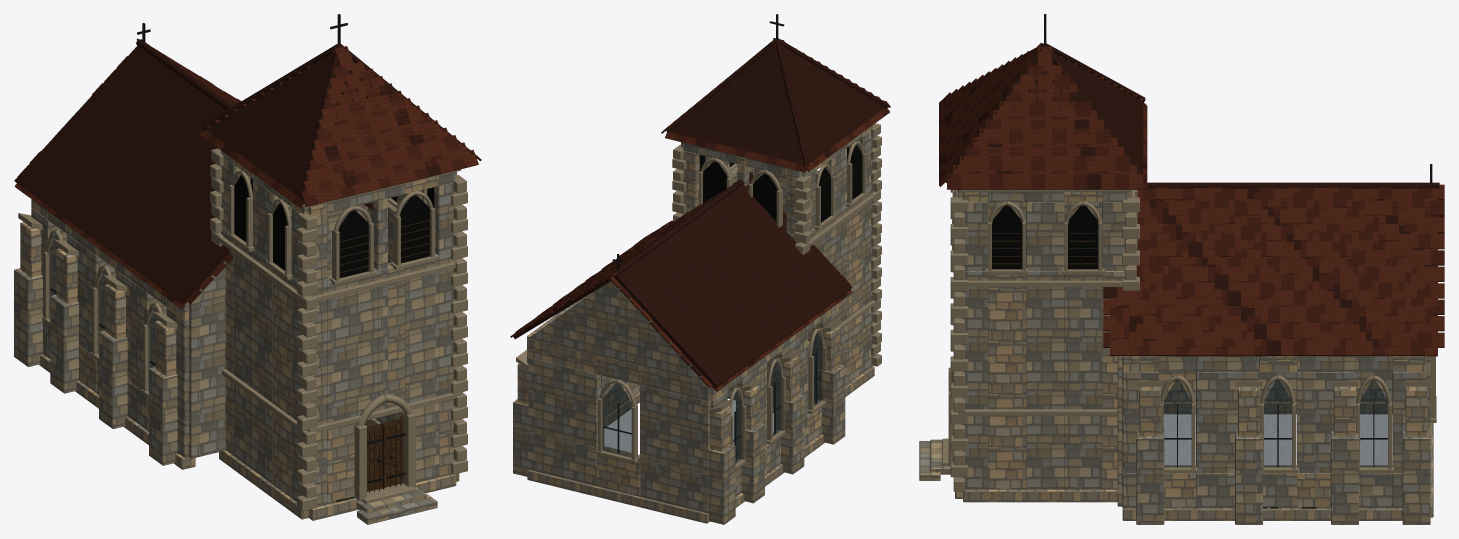
Rendered from medieval_village_church_3d_runtime.glb.
The picture shows the model from 3 angles, left to right: view 1: azimuth 30°, elevation 25°; view 2: azimuth 150°, elevation 25°; view 3: azimuth 270°, elevation 25°; orthographic projection. The views are drawn at different scales.
Parts seen in each view (by area): view 1: RUNTIME_BATCH_017_MAT_CHURCH_TERRACOTTA_WEATHERED, RUNTIME_BATCH_003_MAT_CHURCH_STONE_DARK, RUNTIME_BATCH_001_MAT_CHURCH_STONE_DARK, RUNTIME_BATCH_018_MAT_CHURCH_TERRACOTTA_A, RUNTIME_BATCH_006_MAT_CHURCH_DRESSED_LIMESTONE, RUNTIME_BATCH_008_MAT_CHURCH_STONE_DARK, RUNTIME_BATCH_000_MAT_CHURCH_STONE_WARM, RUNTIME_BATCH_004_MAT_CHURCH_STONE_WARM, RUNTIME_BATCH_007_MAT_CHURCH_DRESSED_LIMESTONE, RUNTIME_BATCH_019_MAT_CHURCH_TERRACOTTA_B, RUNTIME_BATCH_002_MAT_CHURCH_STONE_WARM, RUNTIME_BATCH_015_MAT_CHURCH_DRESSED_LIMESTONE (+10 smaller); view 2: RUNTIME_BATCH_017_MAT_CHURCH_TERRACOTTA_WEATHERED, RUNTIME_BATCH_003_MAT_CHURCH_STONE_DARK, RUNTIME_BATCH_008_MAT_CHURCH_STONE_DARK, RUNTIME_BATCH_004_MAT_CHURCH_STONE_WARM, RUNTIME_BATCH_005_MAT_CHURCH_STONE_DARK, RUNTIME_BATCH_007_MAT_CHURCH_DRESSED_LIMESTONE, RUNTIME_BATCH_000_MAT_CHURCH_STONE_WARM, RUNTIME_BATCH_018_MAT_CHURCH_TERRACOTTA_A, RUNTIME_BATCH_016_MAT_CHURCH_DEEP_OPENING, RUNTIME_BATCH_006_MAT_CHURCH_DRESSED_LIMESTONE, RUNTIME_BATCH_019_MAT_CHURCH_TERRACOTTA_B, WINDOW_NAVE_REAR_GLASS (+9 smaller); view 3: RUNTIME_BATCH_018_MAT_CHURCH_TERRACOTTA_A, RUNTIME_BATCH_003_MAT_CHURCH_STONE_DARK, RUNTIME_BATCH_019_MAT_CHURCH_TERRACOTTA_B, RUNTIME_BATCH_004_MAT_CHURCH_STONE_WARM, RUNTIME_BATCH_000_MAT_CHURCH_STONE_WARM, RUNTIME_BATCH_008_MAT_CHURCH_STONE_DARK, RUNTIME_BATCH_017_MAT_CHURCH_TERRACOTTA_WEATHERED, RUNTIME_BATCH_007_MAT_CHURCH_DRESSED_LIMESTONE, RUNTIME_BATCH_006_MAT_CHURCH_DRESSED_LIMESTONE, RUNTIME_BATCH_016_MAT_CHURCH_DEEP_OPENING, WINDOW_NAVE_RIGHT_0_GLASS, WINDOW_NAVE_RIGHT_2_GLASS (+4 smaller).
Part boxes in pixels (x1,y1,x2,y2): RUNTIME_BATCH_017_MAT_CHURCH_TERRACOTTA_WEATHERED: [14, 45, 441, 304]; RUNTIME_BATCH_003_MAT_CHURCH_STONE_DARK: [31, 150, 421, 501]; RUNTIME_BATCH_001_MAT_CHURCH_STONE_DARK: [310, 172, 455, 506]; RUNTIME_BATCH_018_MAT_CHURCH_TERRACOTTA_A: [14, 38, 478, 308]; RUNTIME_BATCH_006_MAT_CHURCH_DRESSED_LIMESTONE: [297, 169, 467, 511]; RUNTIME_BATCH_008_MAT_CHURCH_STONE_DARK: [14, 268, 177, 465]; RUNTIME_BATCH_000_MAT_CHURCH_STONE_WARM: [20, 222, 459, 520]; RUNTIME_BATCH_004_MAT_CHURCH_STONE_WARM: [31, 160, 456, 497]; RUNTIME_BATCH_007_MAT_CHURCH_DRESSED_LIMESTONE: [18, 148, 462, 431]; RUNTIME_BATCH_019_MAT_CHURCH_TERRACOTTA_B: [21, 47, 481, 303]; RUNTIME_BATCH_002_MAT_CHURCH_STONE_WARM: [308, 176, 455, 504]; RUNTIME_BATCH_015_MAT_CHURCH_DRESSED_LIMESTONE: [329, 207, 437, 500]; RUNTIME_BATCH_017_MAT_CHURCH_TERRACOTTA_WEATHERED: [513, 46, 885, 388]; RUNTIME_BATCH_003_MAT_CHURCH_STONE_DARK: [527, 130, 872, 513]; RUNTIME_BATCH_008_MAT_CHURCH_STONE_DARK: [513, 364, 845, 524]; RUNTIME_BATCH_004_MAT_CHURCH_STONE_WARM: [527, 125, 872, 496]; RUNTIME_BATCH_005_MAT_CHURCH_STONE_DARK: [528, 281, 702, 380]; RUNTIME_BATCH_007_MAT_CHURCH_DRESSED_LIMESTONE: [516, 144, 877, 469]; RUNTIME_BATCH_000_MAT_CHURCH_STONE_WARM: [517, 326, 874, 523]; RUNTIME_BATCH_018_MAT_CHURCH_TERRACOTTA_A: [510, 38, 884, 391]; RUNTIME_BATCH_016_MAT_CHURCH_DEEP_OPENING: [699, 144, 862, 222]; RUNTIME_BATCH_006_MAT_CHURCH_DRESSED_LIMESTONE: [871, 123, 881, 366]; RUNTIME_BATCH_019_MAT_CHURCH_TERRACOTTA_B: [515, 48, 890, 386]; WINDOW_NAVE_REAR_GLASS: [602, 383, 632, 457]; RUNTIME_BATCH_018_MAT_CHURCH_TERRACOTTA_A: [939, 43, 1444, 356]; RUNTIME_BATCH_003_MAT_CHURCH_STONE_DARK: [962, 190, 1430, 508]; RUNTIME_BATCH_019_MAT_CHURCH_TERRACOTTA_B: [939, 51, 1444, 356]; RUNTIME_BATCH_004_MAT_CHURCH_STONE_WARM: [962, 192, 1430, 508]; RUNTIME_BATCH_000_MAT_CHURCH_STONE_WARM: [955, 386, 1433, 520]; RUNTIME_BATCH_008_MAT_CHURCH_STONE_DARK: [1136, 429, 1430, 524]; RUNTIME_BATCH_017_MAT_CHURCH_TERRACOTTA_WEATHERED: [939, 53, 1437, 355]; RUNTIME_BATCH_007_MAT_CHURCH_DRESSED_LIMESTONE: [958, 189, 1429, 473]; RUNTIME_BATCH_006_MAT_CHURCH_DRESSED_LIMESTONE: [950, 189, 968, 491]; RUNTIME_BATCH_016_MAT_CHURCH_DEEP_OPENING: [992, 203, 1098, 269]; WINDOW_NAVE_RIGHT_0_GLASS: [1163, 377, 1191, 467]; WINDOW_NAVE_RIGHT_2_GLASS: [1360, 377, 1387, 467].
Bounding box in the file's own units: 9.76 × 16.32 × 17.25.
Materials: 12 (12 with a texture image).
